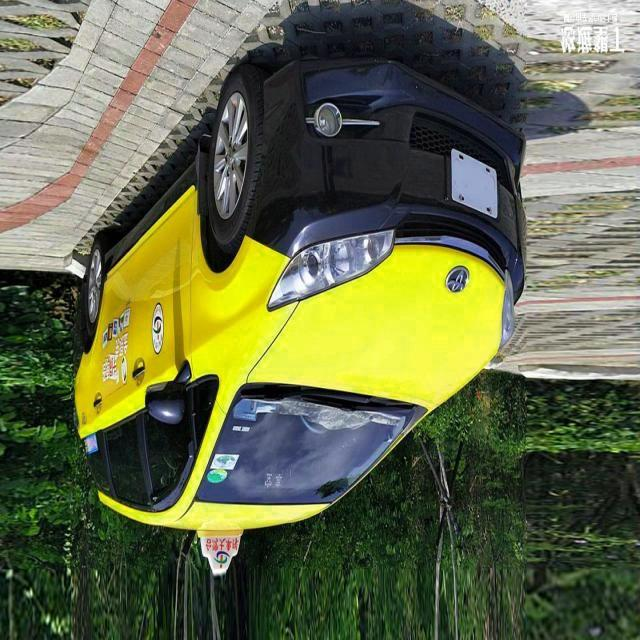taxi: (56, 33, 563, 582)
